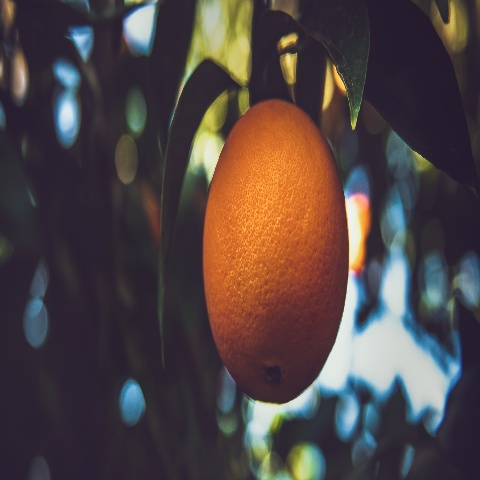orange: (188, 94, 379, 415)
